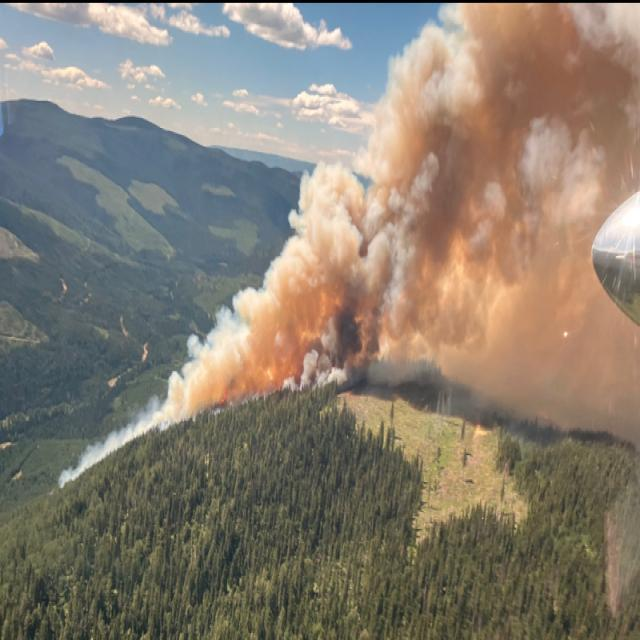Smoke: (57, 0, 640, 495)
